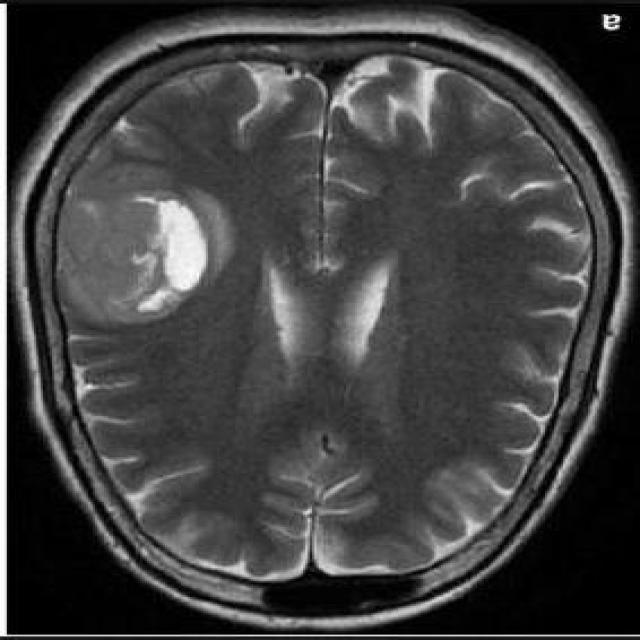Tumor: (52, 152, 238, 340)
